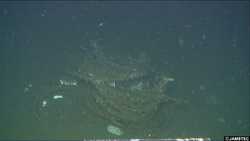fishing net: (28, 40, 179, 133)
